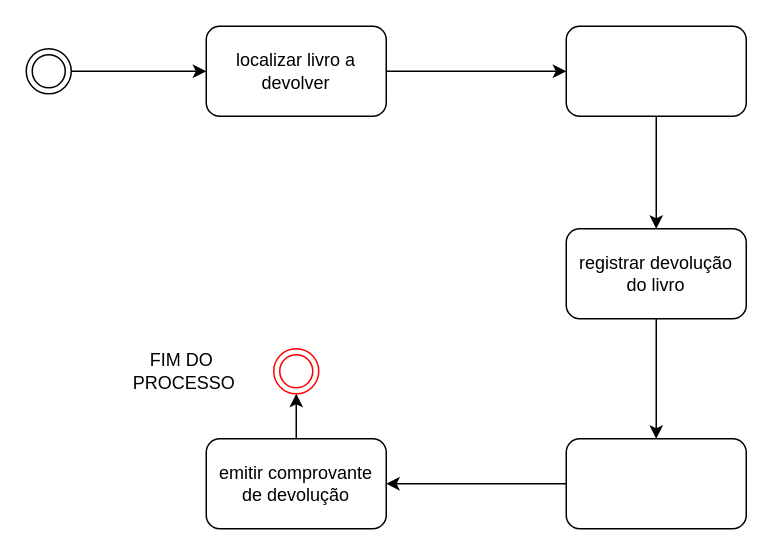
Image size: 773x555. Some labels were removed from this diagram. Each missing label, with the centre of its shape:
"atualizar disponibilidade do livro" goes at [655,483].
"realizar processo de devolução" goes at [655,70].
